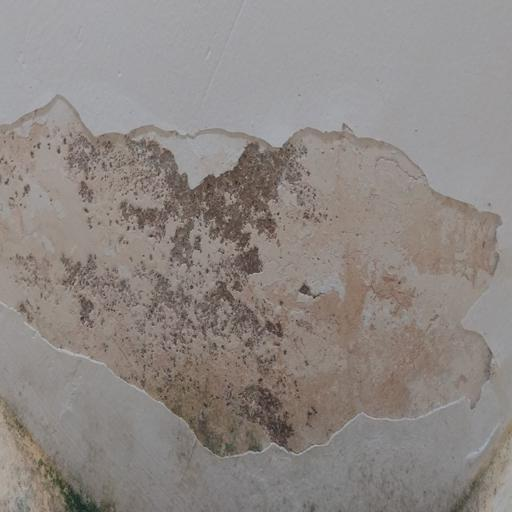peeling: (0, 88, 512, 455)
